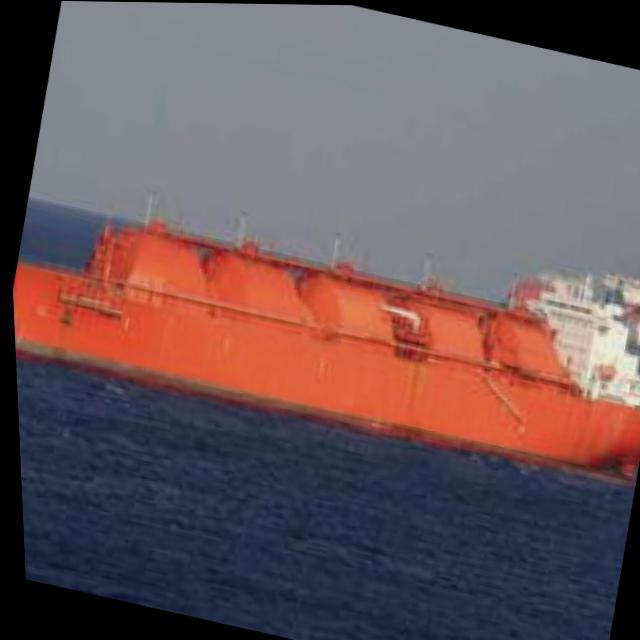ship2: (10, 190, 640, 481)
